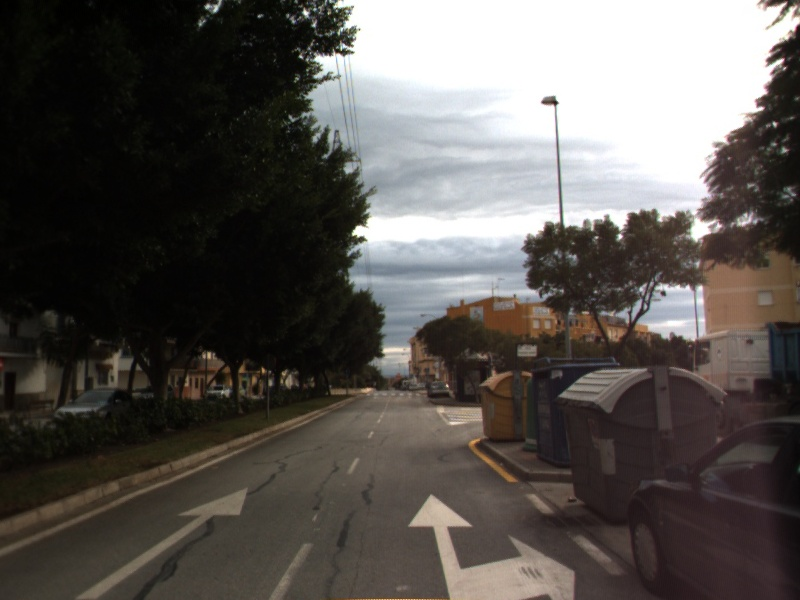STRAIGHT: (71, 483, 249, 600)
STRAIGHT_RIGHT: (404, 490, 578, 600)
